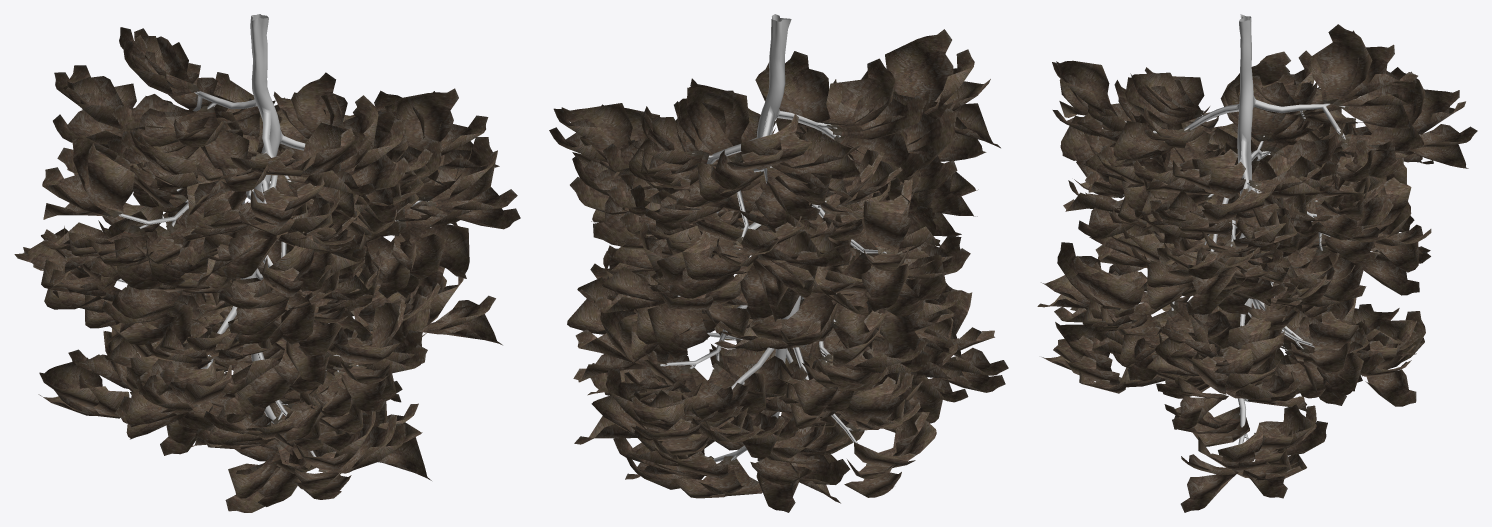
File: BIO_VEG_Tree_01C.fbx
The picture shows the model from 3 angles, left to right: view 1: azimuth 30°, elevation 25°; view 2: azimuth 150°, elevation 25°; view 3: azimuth 270°, elevation 25°; orthographic projection. The views are drawn at different scales.
Visible parts, largest first — view 1: BIO_VEG_Tree_01C; view 2: BIO_VEG_Tree_01C; view 3: BIO_VEG_Tree_01C.
Boxes of the visible parts, bbox=[...] form: BIO_VEG_Tree_01C: bbox=[14, 14, 520, 512]; BIO_VEG_Tree_01C: bbox=[549, 14, 1008, 512]; BIO_VEG_Tree_01C: bbox=[1037, 14, 1477, 512].
Bounding box in the file's own units: 1316 × 1463 × 1353.
